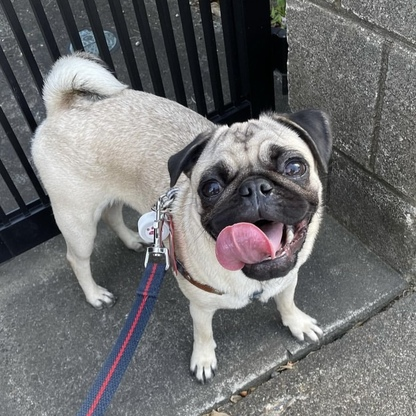Pug: (24, 45, 341, 387)
